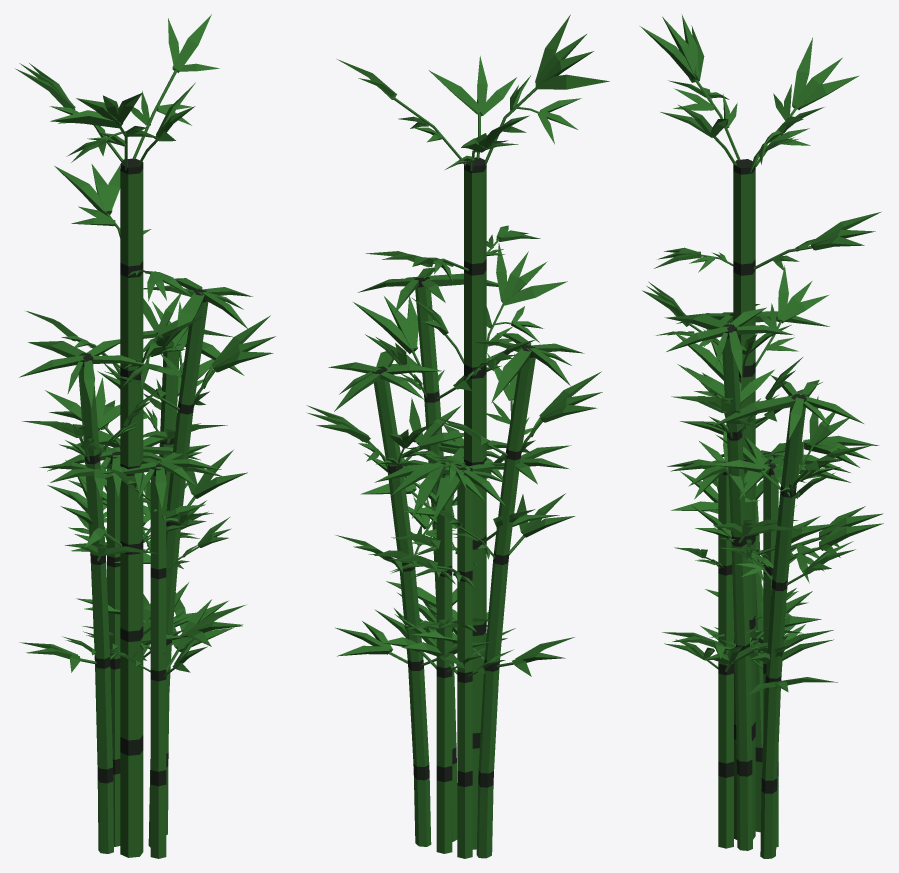
Rendered from bamboo7.FBX.
The picture shows the model from 3 angles, left to right: view 1: azimuth 30°, elevation 25°; view 2: azimuth 150°, elevation 25°; view 3: azimuth 270°, elevation 25°; orthographic projection. The views are drawn at different scales.
Visible parts, largest first — view 1: bamboo7; view 2: bamboo7; view 3: bamboo7.
Part boxes in pixels (x1,y1,x2,y2): bamboo7: (15, 14, 275, 858); bamboo7: (306, 14, 609, 858); bamboo7: (640, 14, 883, 858).
Bounding box in the file's own units: 104 × 90.25 × 321.
